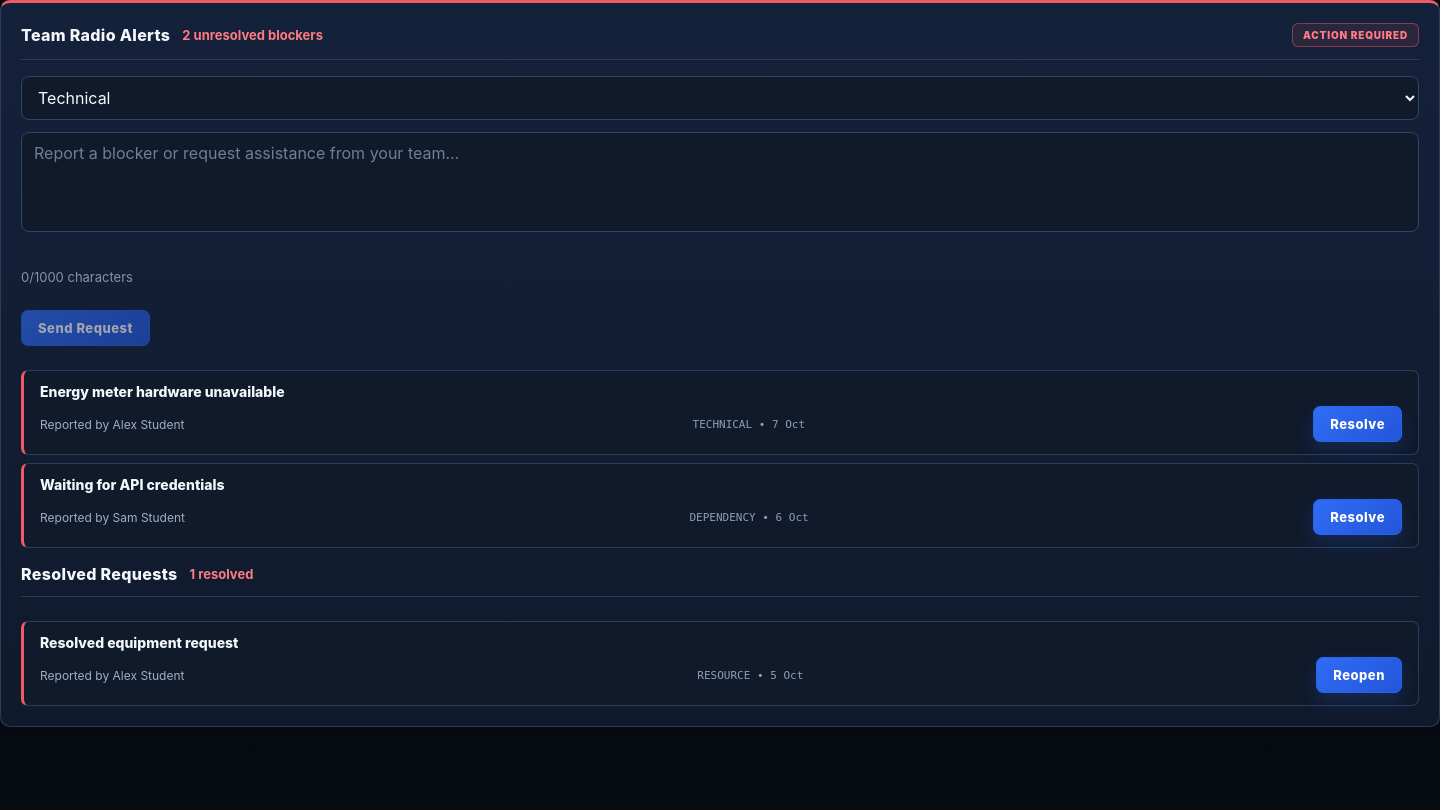
it: TeamRadioAlert Integration Tests › reopens a resolved assistance request and sends the reopen PATCH request
expect the text "Resolved equipment request" is shown: met, box [40, 634, 238, 651]
Click the button "Reopen".
click(1359, 675)  # box [1316, 657, 1402, 693]
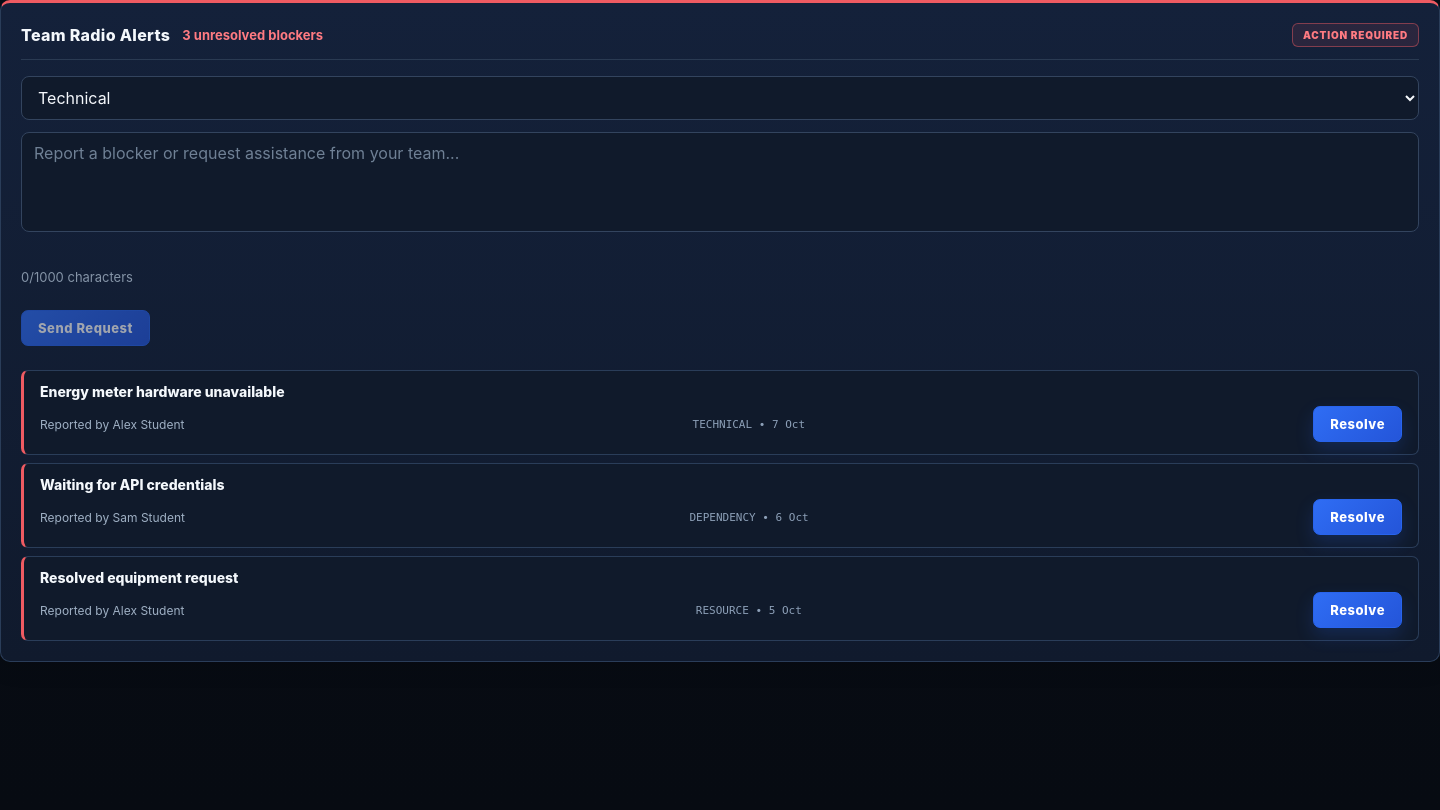
expect the text "Resolved equipment request" is shown: met, box [40, 569, 238, 586]
expect the text "3 unresolved blockers" is shown: met, box [182, 27, 323, 43]
expect the text "Resolved Requests" is gone: met
